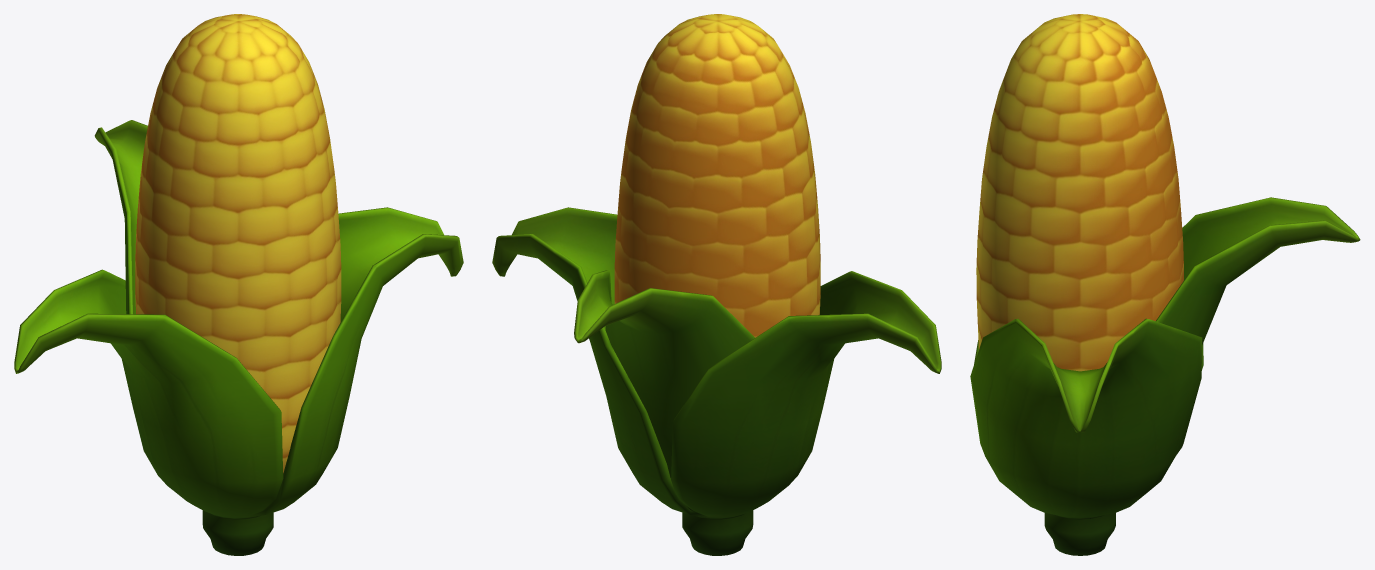
Rendered from Corn.fbx.
3 views of the same model, side by side, from view 1: azimuth 30°, elevation 25°; view 2: azimuth 150°, elevation 25°; view 3: azimuth 270°, elevation 25° (orthographic).
Visible parts, largest first — view 1: Corn; view 2: Corn; view 3: Corn.
Boxes of the visible parts, x1,y1,x2,y2 form: Corn: (14, 14, 463, 555); Corn: (492, 14, 941, 555); Corn: (970, 14, 1360, 555).
Size of the model in its own units: 25.79 by 29.29 by 19.71.
